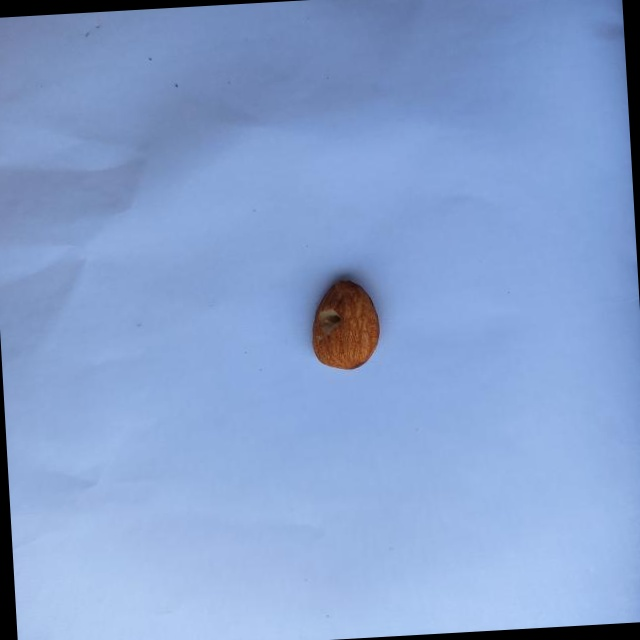grade3: (304, 273, 384, 376)
